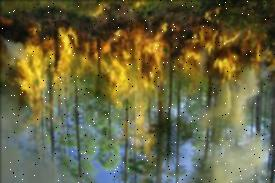fire: (4, 11, 275, 124)
